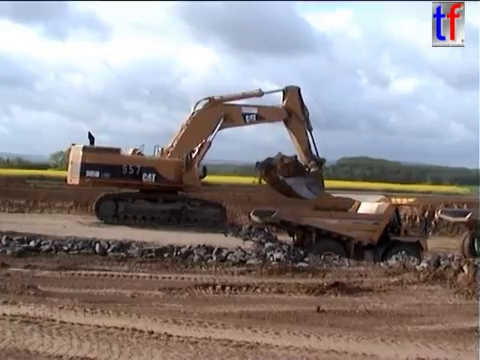excavator: (63, 82, 328, 230)
truck: (246, 194, 429, 285), (435, 206, 480, 263)
